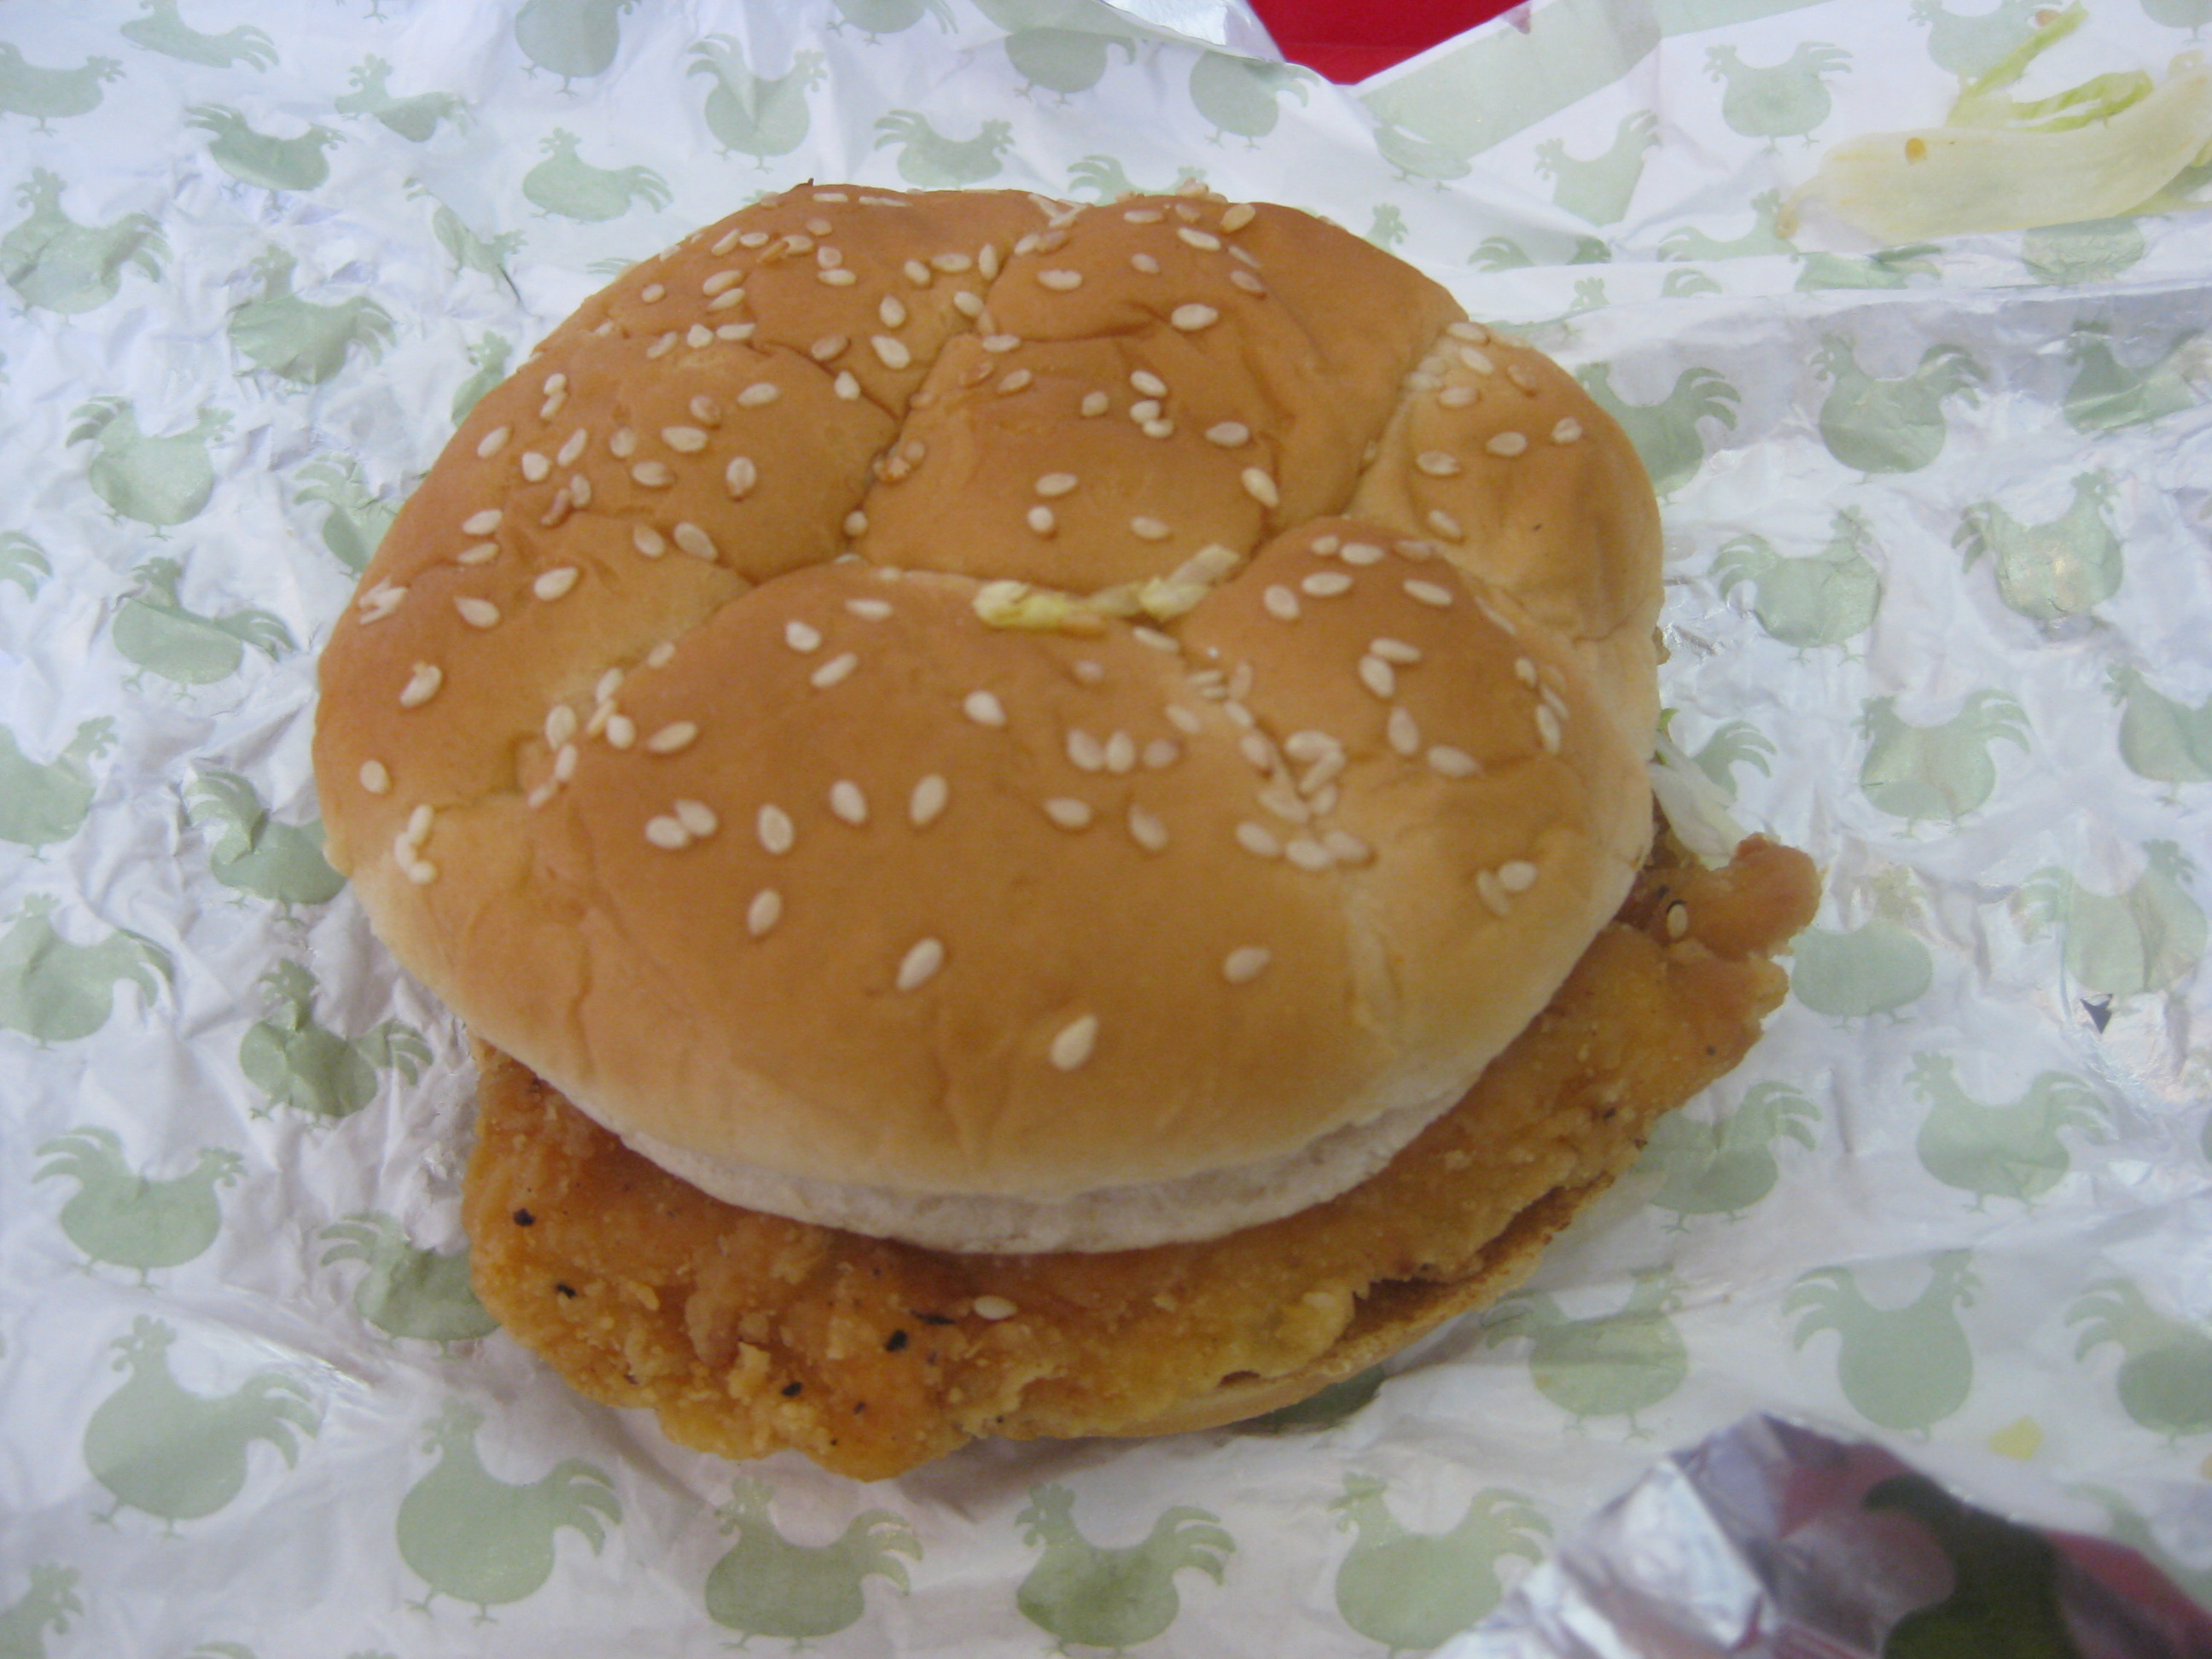burger: (317, 144, 1838, 1435)
